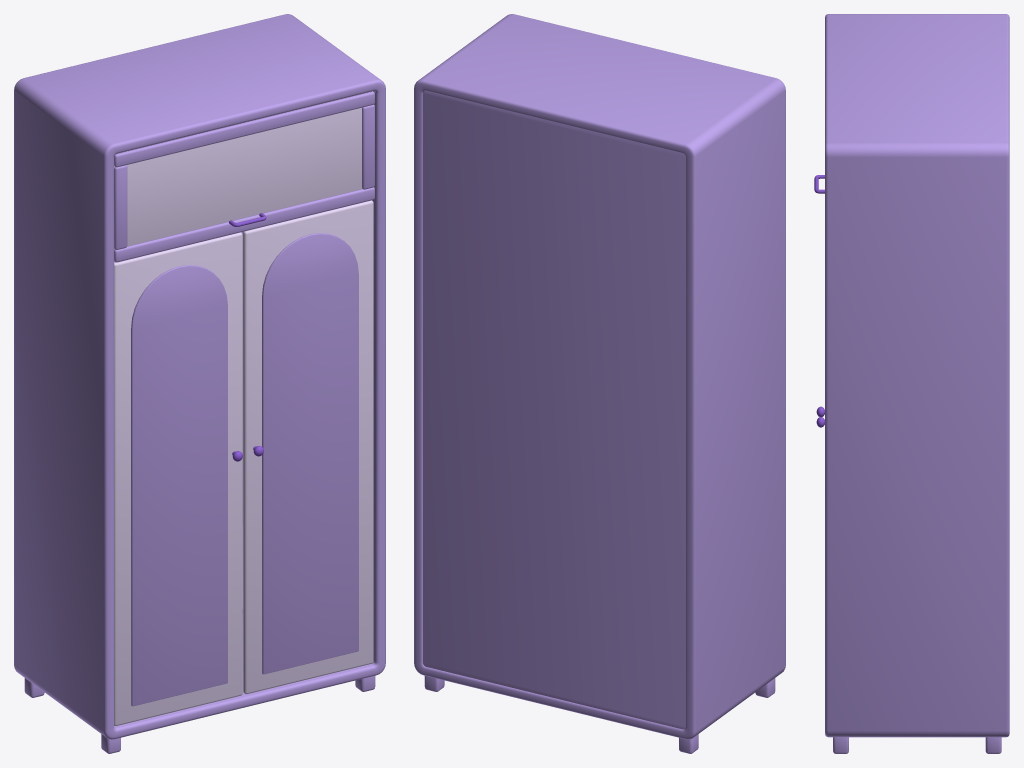
Rendered from guarda_roupa_maleiro_lilas.glb.
3 views of the same model, side by side, from view 1: azimuth 30°, elevation 25°; view 2: azimuth 150°, elevation 25°; view 3: azimuth 270°, elevation 25° (orthographic).
Visible parts, largest first — view 1: guarda_roupa_maleiro_lilas, porta_2, porta_1, porta_3; view 2: guarda_roupa_maleiro_lilas; view 3: guarda_roupa_maleiro_lilas.
Boxes of the visible parts, box(x1,y1,x2,y2) form: guarda_roupa_maleiro_lilas: box(14, 14, 385, 753); porta_2: box(243, 200, 373, 694); porta_1: box(114, 232, 242, 726); porta_3: box(114, 91, 374, 262); guarda_roupa_maleiro_lilas: box(414, 14, 785, 753); guarda_roupa_maleiro_lilas: box(825, 14, 1009, 753).
Size of the model in its own units: 1.02 by 2.12 by 0.6135.
1 material, 1 textured.
